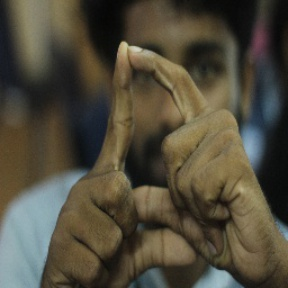D: (88, 38, 238, 233)
